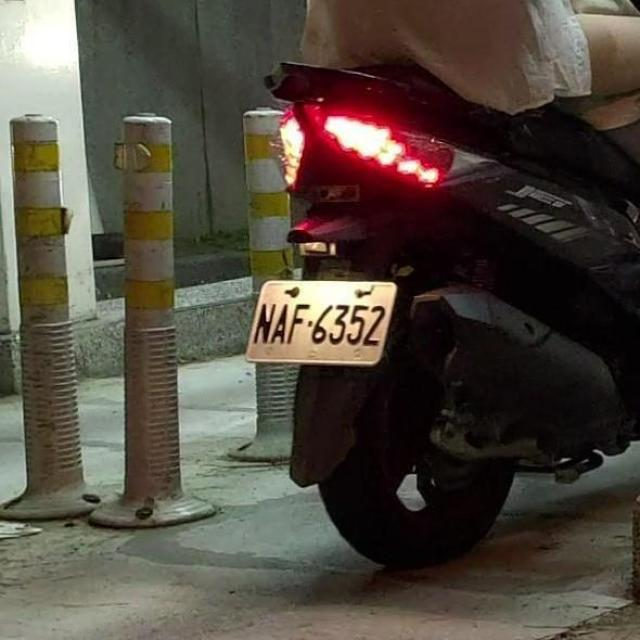W: (246, 266, 402, 374)
